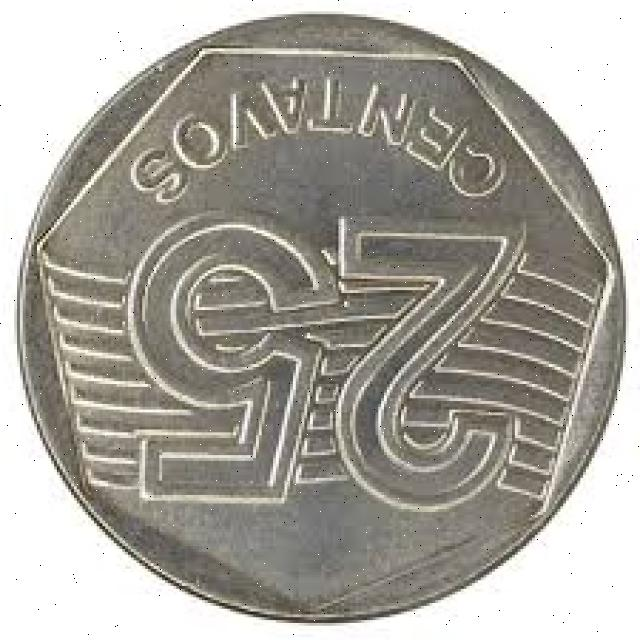25 cent: (8, 24, 620, 604)
